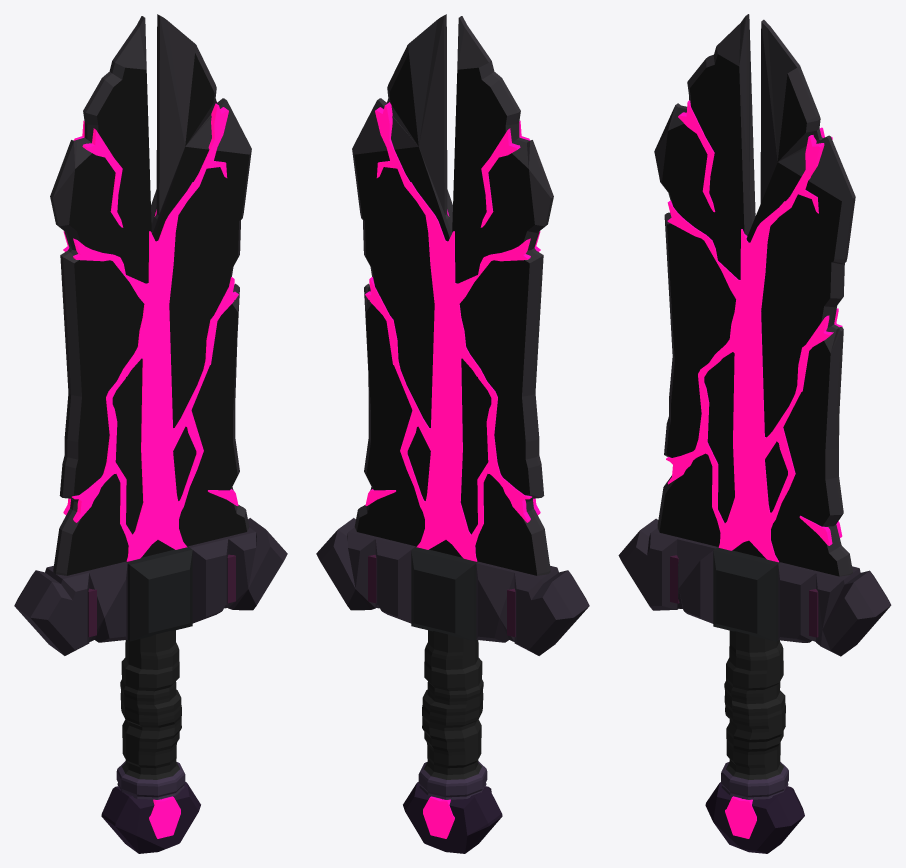
The model's file is Epic_ObsidianSword.fbx.
3 renders of one model, left to right at view 1: azimuth 30°, elevation 25°; view 2: azimuth 150°, elevation 25°; view 3: azimuth 330°, elevation 25°, orthographic.
Visible parts, largest first — view 1: Epic_ObsidianSword_Blade, Epic_ObsidianSword_Neon_Crack, Epic_ObsidianSword_BladeEdge, Epic_ObsidianSword_Grip, Epic_ObsidianSword_Guard_Center, Epic_ObsidianSword_Guard_EndL, Epic_ObsidianSword_Pommel, Epic_ObsidianSword_Guard_EndR, Epic_ObsidianSword_Guard_MidR, Epic_ObsidianSword_Guard_MidL, Epic_ObsidianSword_Collar, Epic_ObsidianSword_Pommel_Neon; view 2: Epic_ObsidianSword_Blade, Epic_ObsidianSword_Neon_Crack, Epic_ObsidianSword_BladeEdge, Epic_ObsidianSword_Grip, Epic_ObsidianSword_Guard_Center, Epic_ObsidianSword_Guard_EndL, Epic_ObsidianSword_Pommel, Epic_ObsidianSword_Guard_EndR, Epic_ObsidianSword_Guard_MidR, Epic_ObsidianSword_Guard_MidL, Epic_ObsidianSword_Collar, Epic_ObsidianSword_Pommel_Neon; view 3: Epic_ObsidianSword_Blade, Epic_ObsidianSword_Neon_Crack, Epic_ObsidianSword_BladeEdge, Epic_ObsidianSword_Grip, Epic_ObsidianSword_Guard_Center, Epic_ObsidianSword_Guard_EndR, Epic_ObsidianSword_Pommel, Epic_ObsidianSword_Guard_EndL, Epic_ObsidianSword_Guard_MidL, Epic_ObsidianSword_Guard_MidR, Epic_ObsidianSword_Collar, Epic_ObsidianSword_Pommel_Neon.
Boxes of the visible parts, x1,y1,x2,y2 form: Epic_ObsidianSword_Blade: (67,53,249,575); Epic_ObsidianSword_Neon_Crack: (63,102,238,561); Epic_ObsidianSword_BladeEdge: (50,14,251,575); Epic_ObsidianSword_Grip: (120,630,181,779); Epic_ObsidianSword_Guard_Center: (126,546,192,641); Epic_ObsidianSword_Guard_EndL: (14,565,89,655); Epic_ObsidianSword_Pommel: (101,782,200,853); Epic_ObsidianSword_Guard_EndR: (226,518,287,610); Epic_ObsidianSword_Guard_MidR: (188,537,228,623); Epic_ObsidianSword_Guard_MidL: (87,561,127,642); Epic_ObsidianSword_Collar: (116,761,185,799); Epic_ObsidianSword_Pommel_Neon: (149,796,180,838); Epic_ObsidianSword_Blade: (354,53,536,575); Epic_ObsidianSword_Neon_Crack: (365,102,540,561); Epic_ObsidianSword_BladeEdge: (352,14,553,575); Epic_ObsidianSword_Grip: (422,630,483,779); Epic_ObsidianSword_Guard_Center: (411,546,477,641); Epic_ObsidianSword_Guard_EndL: (514,565,589,655); Epic_ObsidianSword_Pommel: (403,782,502,853); Epic_ObsidianSword_Guard_EndR: (316,518,377,610); Epic_ObsidianSword_Guard_MidR: (375,537,415,623); Epic_ObsidianSword_Guard_MidL: (476,561,516,642); Epic_ObsidianSword_Collar: (418,761,487,799); Epic_ObsidianSword_Pommel_Neon: (423,796,454,838); Epic_ObsidianSword_Blade: (659,54,841,576); Epic_ObsidianSword_Neon_Crack: (666,100,842,562); Epic_ObsidianSword_BladeEdge: (654,14,855,576); Epic_ObsidianSword_Grip: (724,630,785,779); Epic_ObsidianSword_Guard_Center: (713,547,780,641); Epic_ObsidianSword_Guard_EndR: (816,566,891,656); Epic_ObsidianSword_Pommel: (705,782,804,853); Epic_ObsidianSword_Guard_EndL: (618,518,679,610); Epic_ObsidianSword_Guard_MidL: (677,537,717,623); Epic_ObsidianSword_Guard_MidR: (778,562,817,642); Epic_ObsidianSword_Collar: (721,761,788,799); Epic_ObsidianSword_Pommel_Neon: (725,796,756,838).
Size of the model in its own units: 1.3 by 4 by 0.32.
